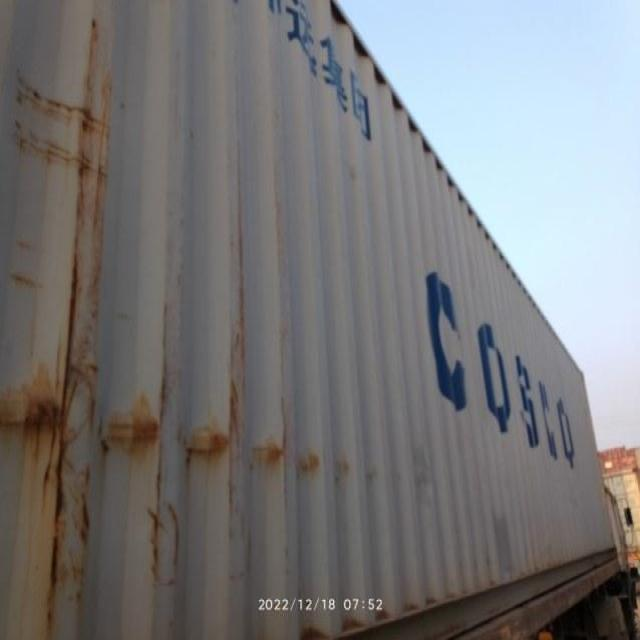rust: (19, 74, 111, 140), (14, 379, 86, 459), (43, 473, 72, 577), (62, 212, 78, 374), (101, 416, 156, 458), (184, 431, 239, 463), (264, 444, 291, 474)
